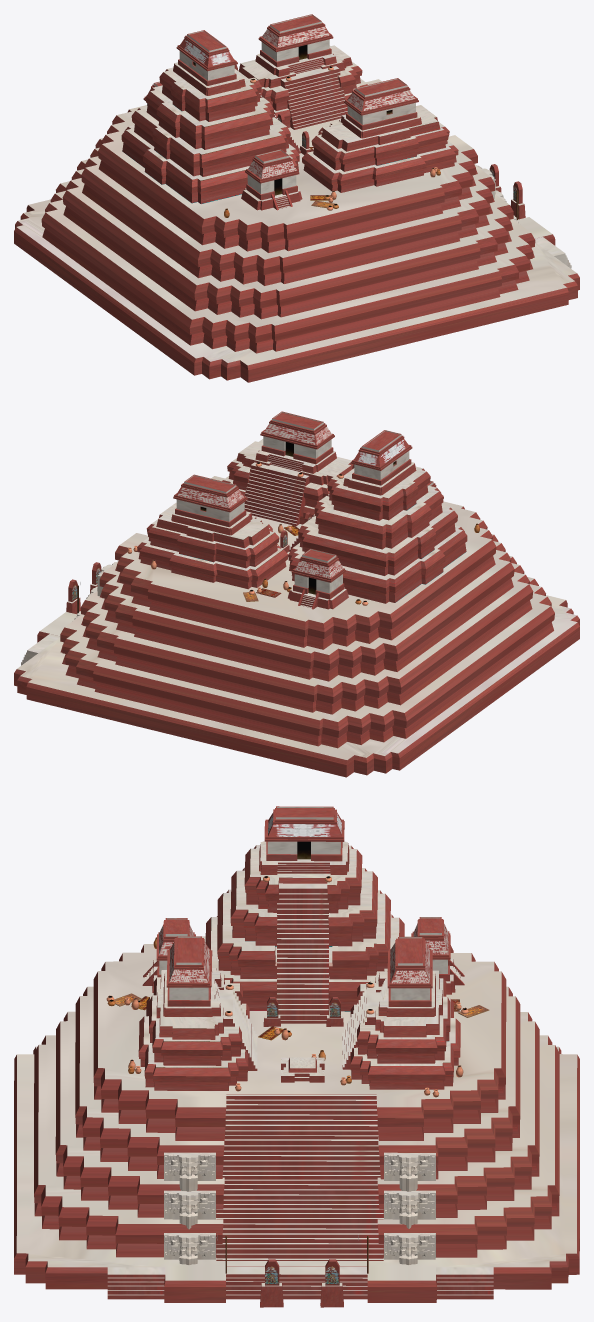
File: ladanta.dae
The picture shows the model from 3 angles, top to bottom: view 1: azimuth 30°, elevation 25°; view 2: azimuth 150°, elevation 25°; view 3: azimuth 270°, elevation 25°; orthographic projection. The views are drawn at different scales.
Parts seen in each view (by area): view 1: templo pri; view 2: templo pri; view 3: templo pri.
Part boxes in pixels (<box>): templo pri: <box>14,14,579,382</box>; templo pri: <box>14,411,579,777</box>; templo pri: <box>14,806,579,1307</box>.
Bounding box in the file's own units: 69.37 × 65.44 × 39.35.
